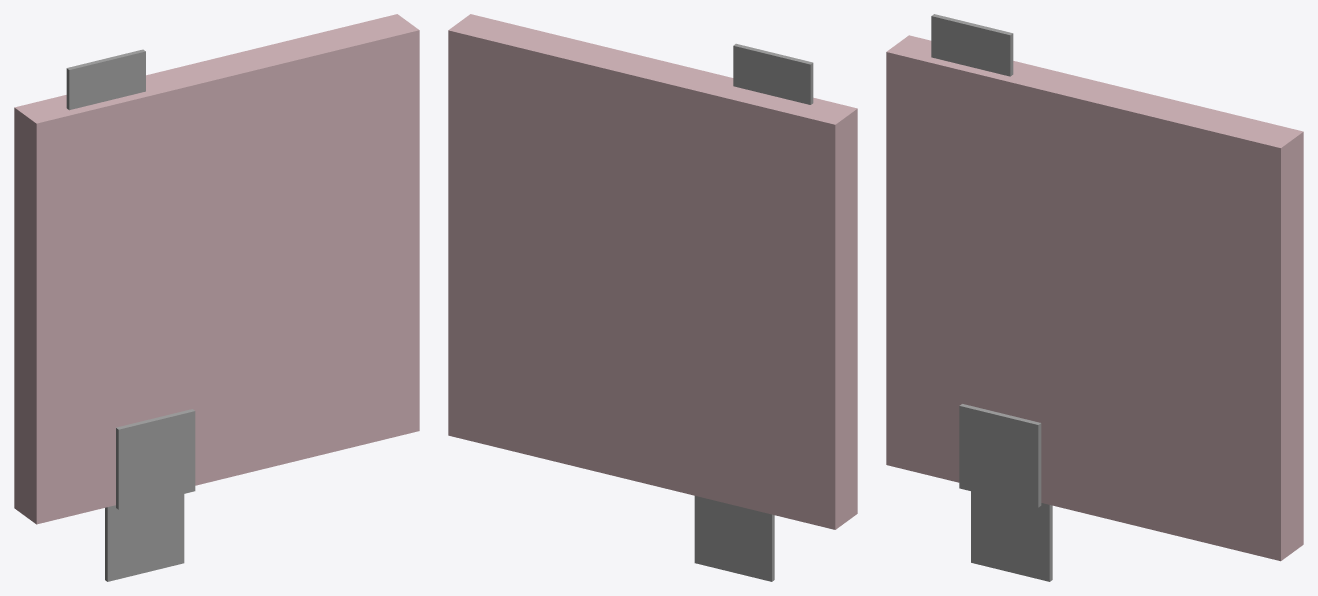
The model's file is board.glb.
3 views of the same model, side by side, from view 1: azimuth 30°, elevation 25°; view 2: azimuth 150°, elevation 25°; view 3: azimuth 330°, elevation 25° (orthographic). The views are drawn at different scales.
Parts seen in each view (by area): view 1: Substrate_Layer_0, Component_M7, Component_M3, Component_M1; view 2: Substrate_Layer_0, Component_M3, Component_M1; view 3: Substrate_Layer_0, Component_M7, Component_M3, Component_M1.
Part boxes in pixels (x1,y1,x2,y2): Substrate_Layer_0: (14,14,419,524); Component_M7: (116,409,195,509); Component_M3: (105,494,184,581); Component_M1: (66,49,145,110); Substrate_Layer_0: (448,14,857,529); Component_M3: (694,496,774,581); Component_M1: (733,43,813,104); Substrate_Layer_0: (886,35,1303,561); Component_M7: (959,404,1041,507); Component_M3: (971,491,1052,581); Component_M1: (931,14,1013,76).
Bounding box in the file's own units: 0.02 × 0.026 × 0.0025.
